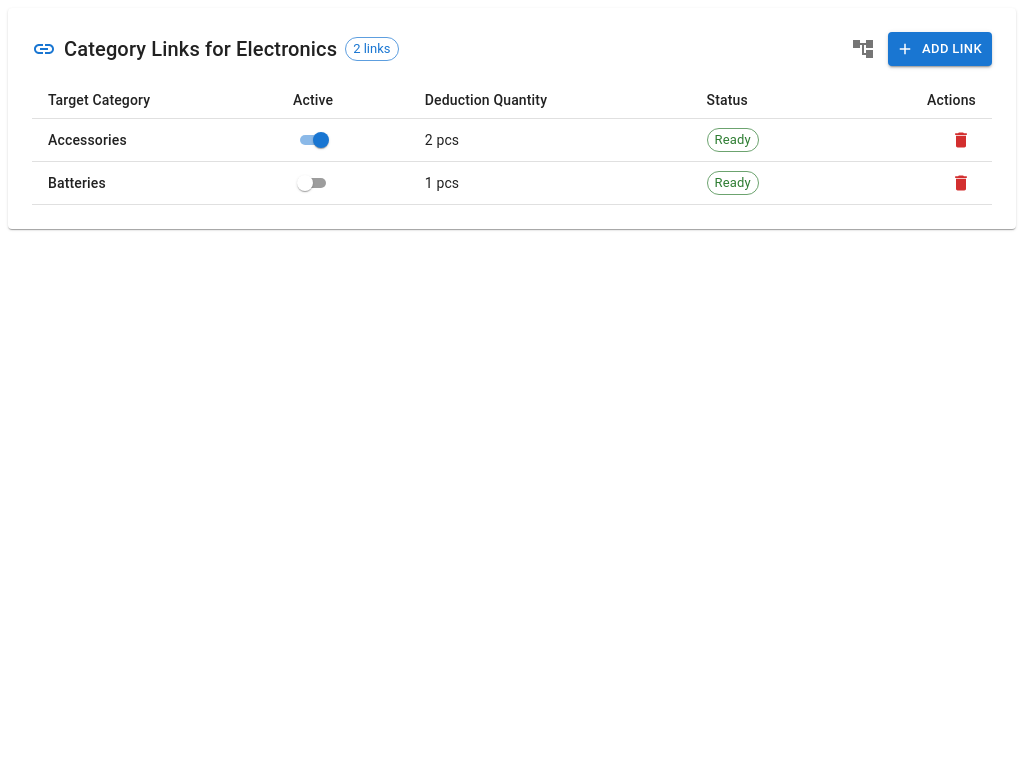
Test: CategoryLinkManager › Dependency Chains › opens dependency chains dialog when tree icon is clicked
Expected: the text "Accessories" is shown, [48,130,127,150]
Find and click the dependency chains button using icon test id
Click the button with test id "AccountTreeIcon" at (863, 49), box [846,32,880,66]
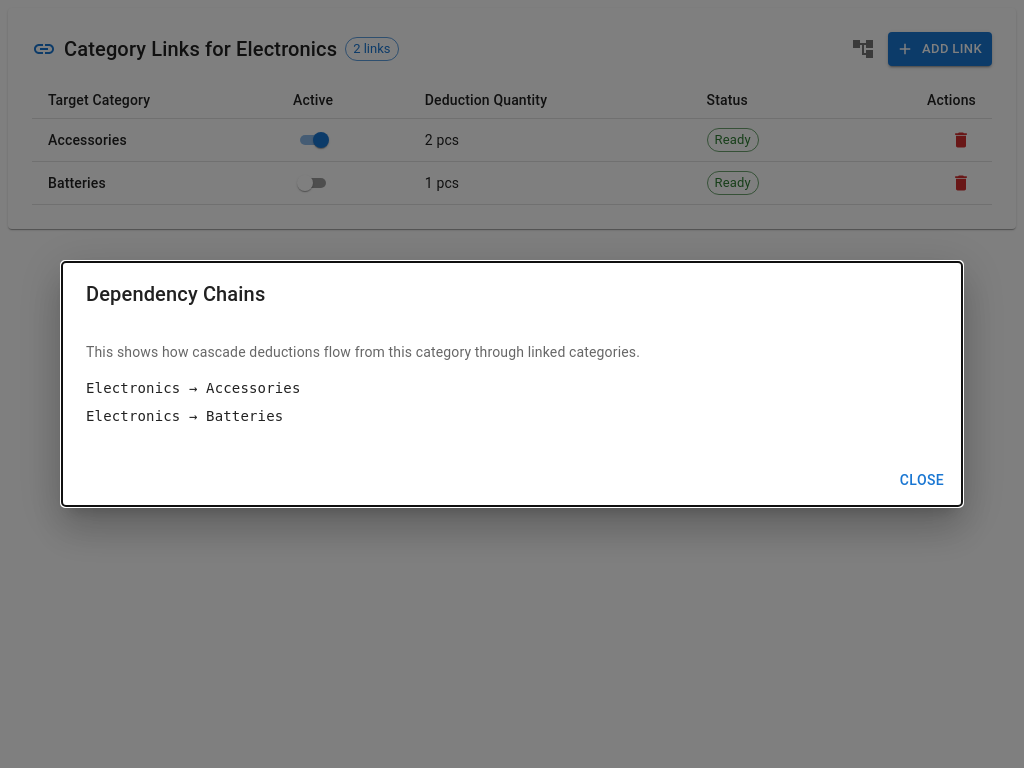
Expected: the heading "Dependency Chains" is shown, [86,282,265,306]
Expected: the text "Electronics → Accessories" is shown, [86,380,300,396]
Expected: the text "Electronics → Batteries" is shown, [86,408,283,424]
